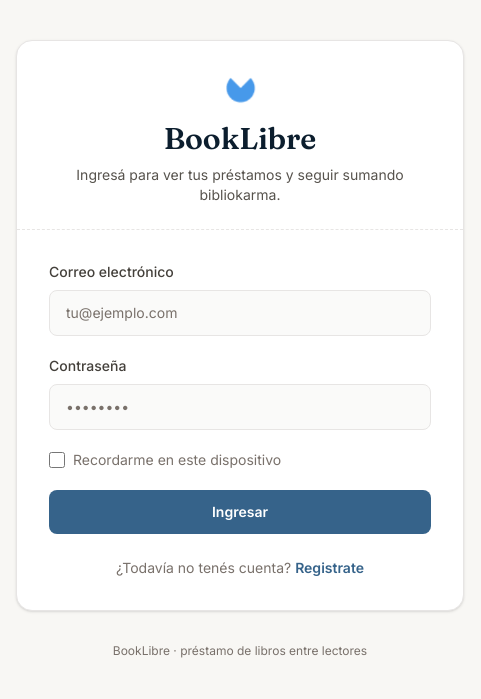
Test: AuthForm › no envía login si hay errores de validación y muestra mensajes de error
Step 1. Click the button with test id "authButton" → (240, 512), box [49,490,431,534]
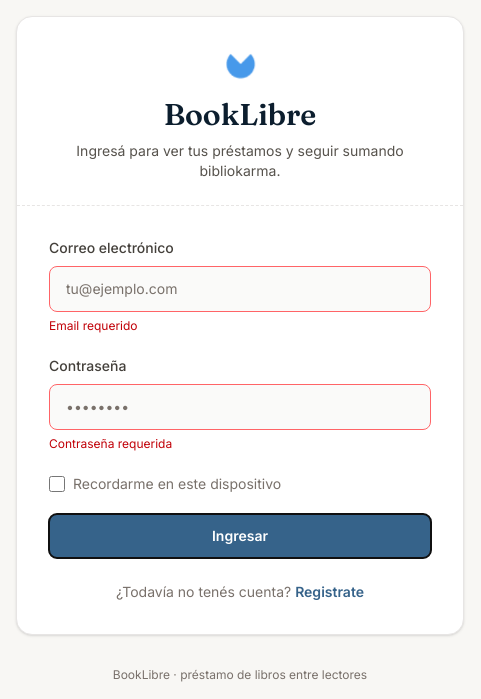
Check: the text "Email requerido" is shown, box [49,318,138,332]
Check: the text "Contraseña requerida" is shown, box [49,436,172,450]
